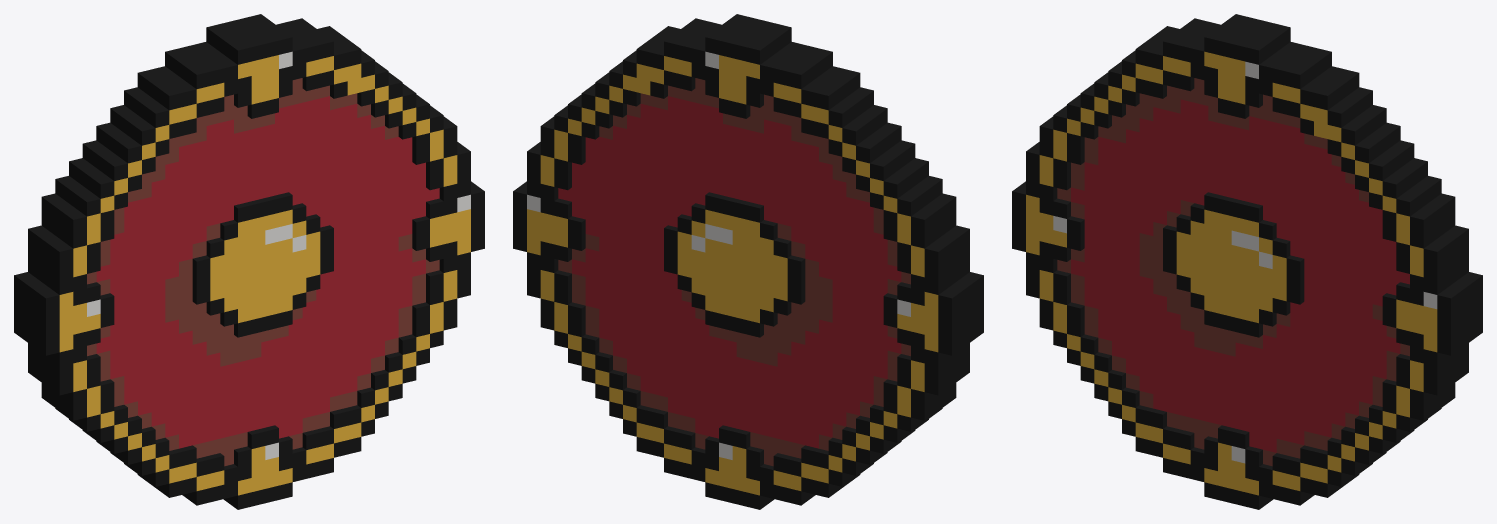
Rendered from Shield.fbx.
The picture shows the model from 3 angles, left to right: view 1: azimuth 30°, elevation 25°; view 2: azimuth 150°, elevation 25°; view 3: azimuth 330°, elevation 25°; orthographic projection.
Visible parts, largest first — view 1: generated; view 2: generated; view 3: generated.
Boxes of the visible parts, x1,y1,x2,y2 form: generated: [14, 14, 484, 509]; generated: [513, 14, 983, 509]; generated: [1012, 14, 1482, 509].
Size of the model in its own units: 16 by 16 by 2.
